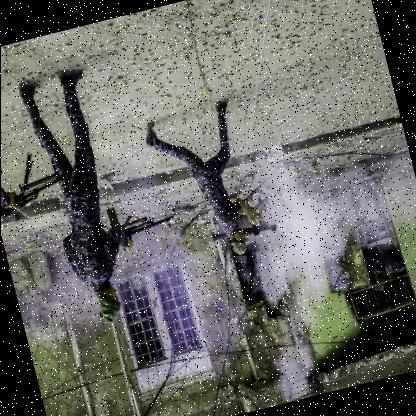rifle: (90, 188, 179, 250), (0, 148, 71, 221), (207, 206, 280, 250)
